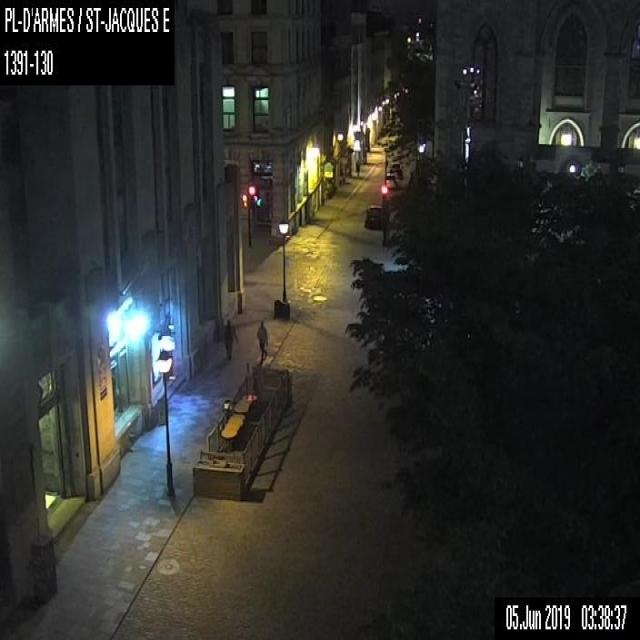pedestrian: (221, 318, 237, 358), (255, 320, 268, 362), (355, 160, 360, 177)
vehicle: (364, 203, 384, 230), (388, 162, 402, 178), (384, 174, 396, 188)
